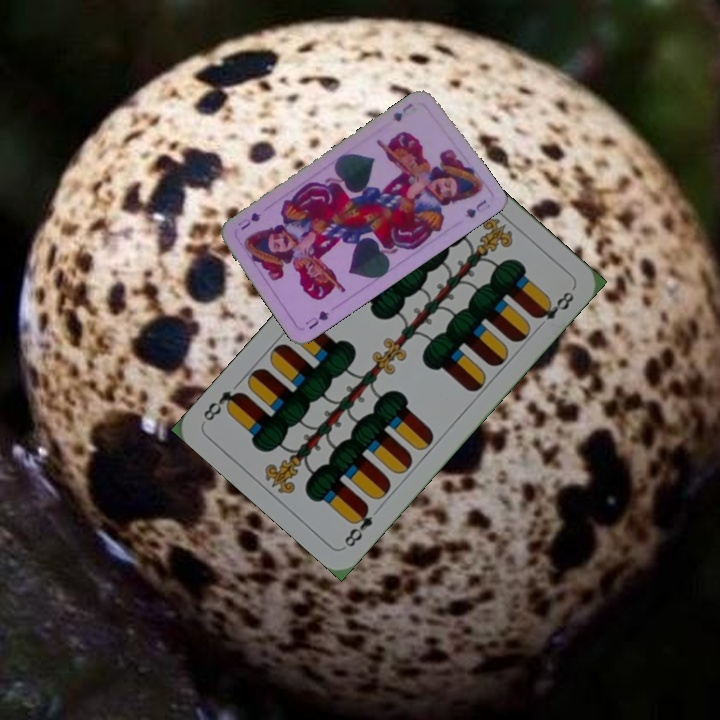E8: (340, 501, 376, 550)
GU: (301, 306, 332, 332), (388, 99, 415, 124)
